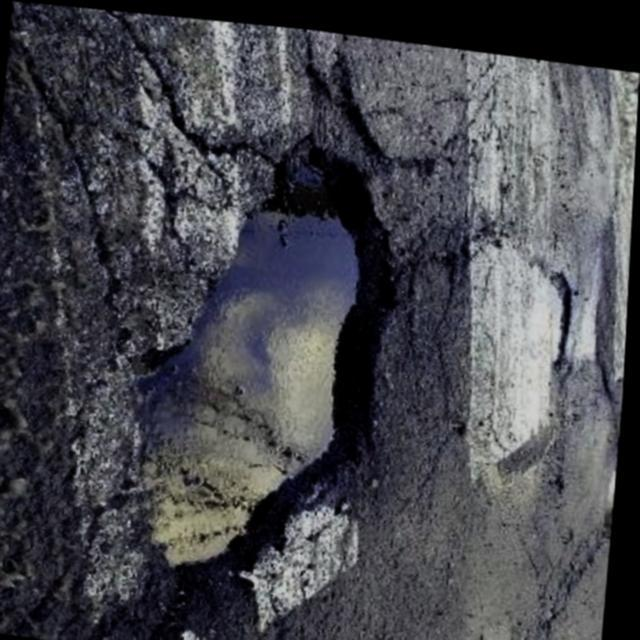pothole: (107, 102, 423, 595), (540, 256, 584, 370)
